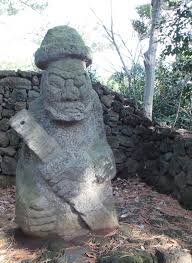Stone Statue: (6, 24, 127, 246)
